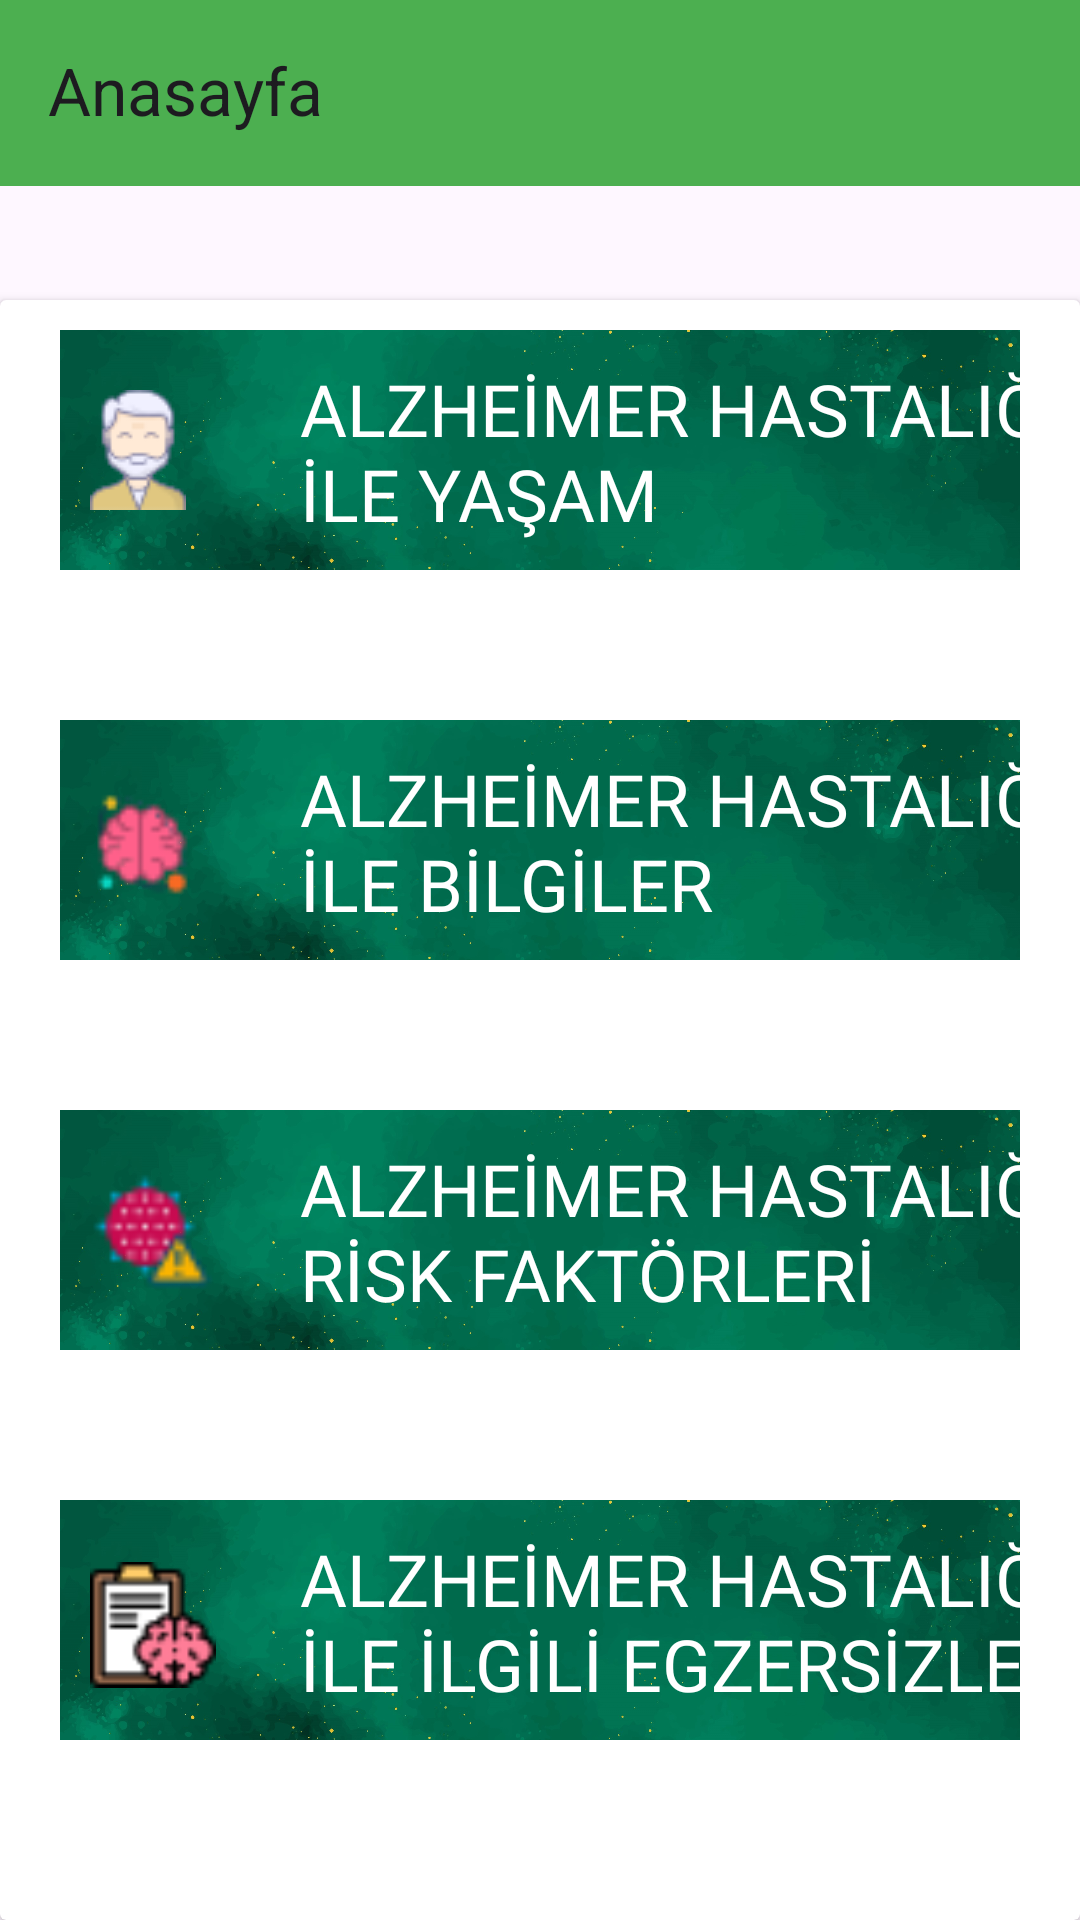

Screen size 1080 × 1920. Icon name, then its center in pixels as (x,y):
brain: (144,851)
healthreport: (153,1625)
people: (138,450)
